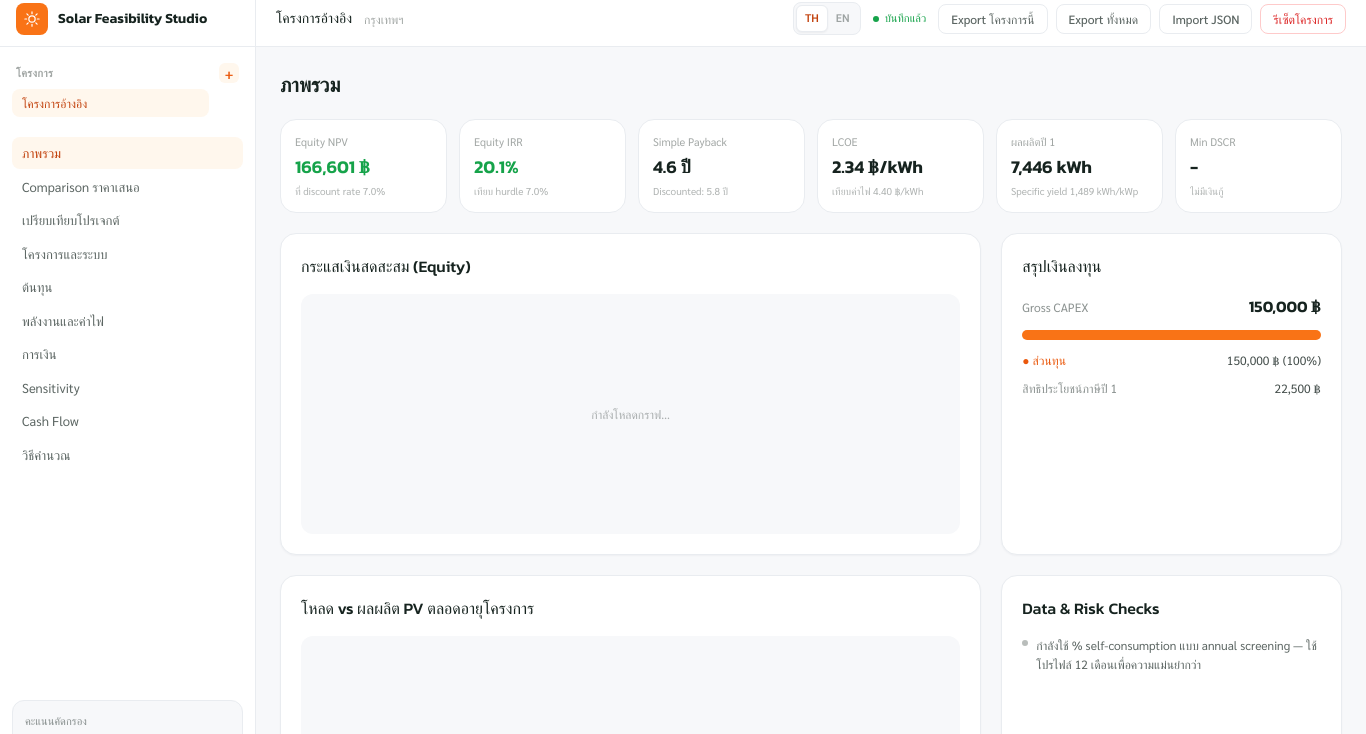
Test: sensitivity page (Phase 6) › renders the 5x5 heatmap, break-even cards and scenarios
Click the link "Sensitivity" at {"x": 51, "y": 387}, box 22,378 -> 80,396
(page scrolled)
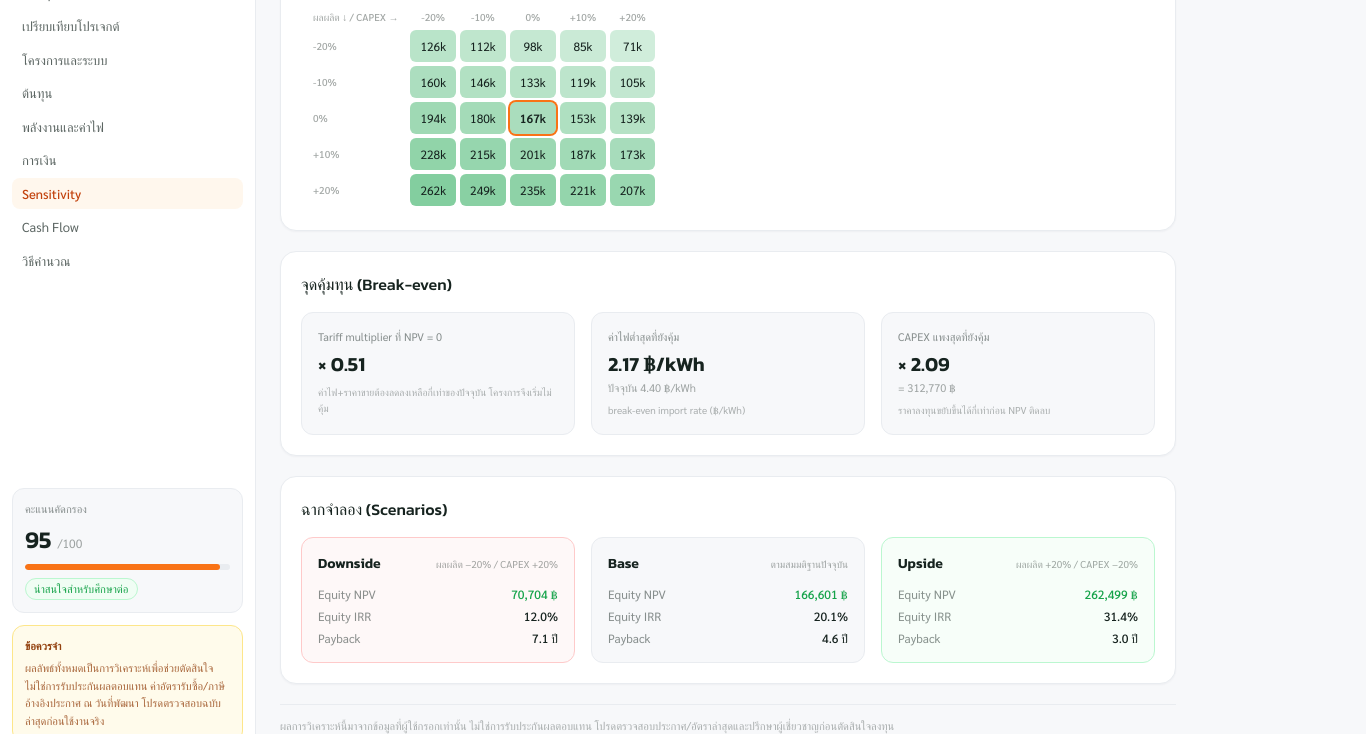
expect the heading "จุดคุ้มทุน (Break-even)" is shown: met, box 301,272 -> 452,296
expect the text "Tariff multiplier ที่ NPV = 0" is shown: met, box 318,329 -> 442,344
expect the text "CAPEX แพงสุดที่ยังคุ้ม" is shown: met, box 898,329 -> 990,344
